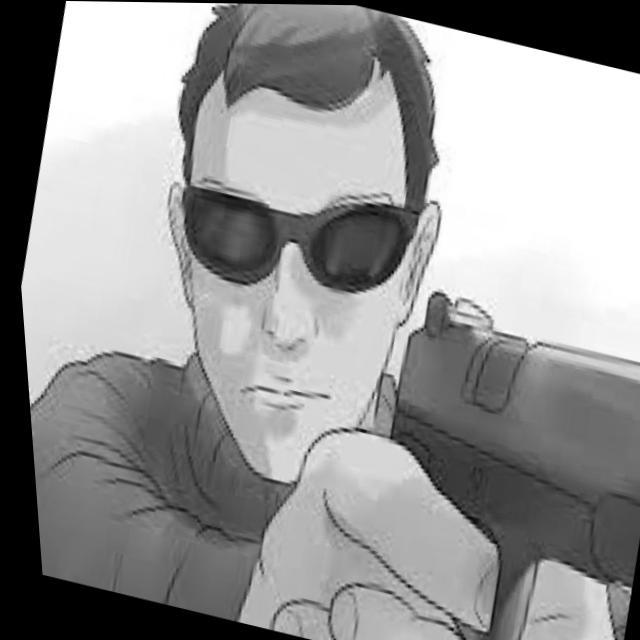weapon: (324, 276, 640, 640)
